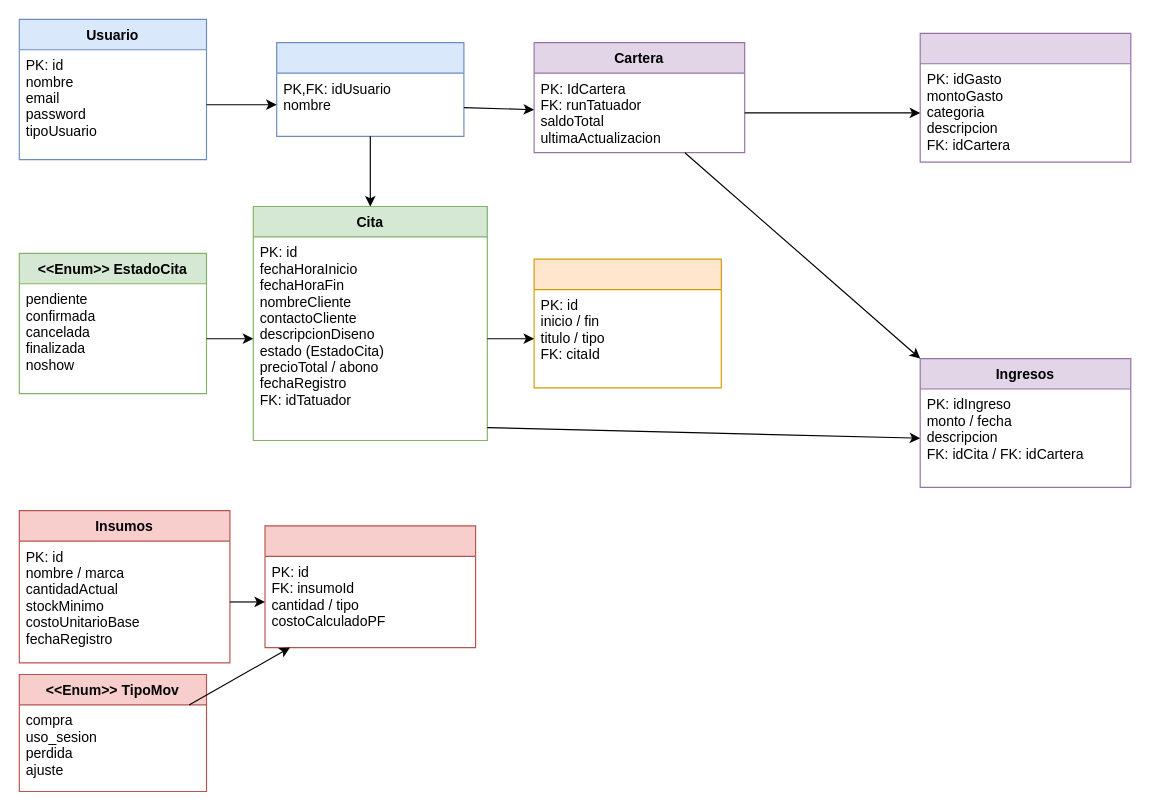
The diagram is 1150 pixels wide and 811 high, and some of its shapes have lost their labels. The box of each missing label's shape, as (x1, y1, x2, y2) in pixels:
Agenda: (533, 258, 721, 388)
Gastos: (919, 32, 1131, 162)
MovimientoStock: (264, 525, 476, 648)
Tatuador: (276, 42, 464, 136)
